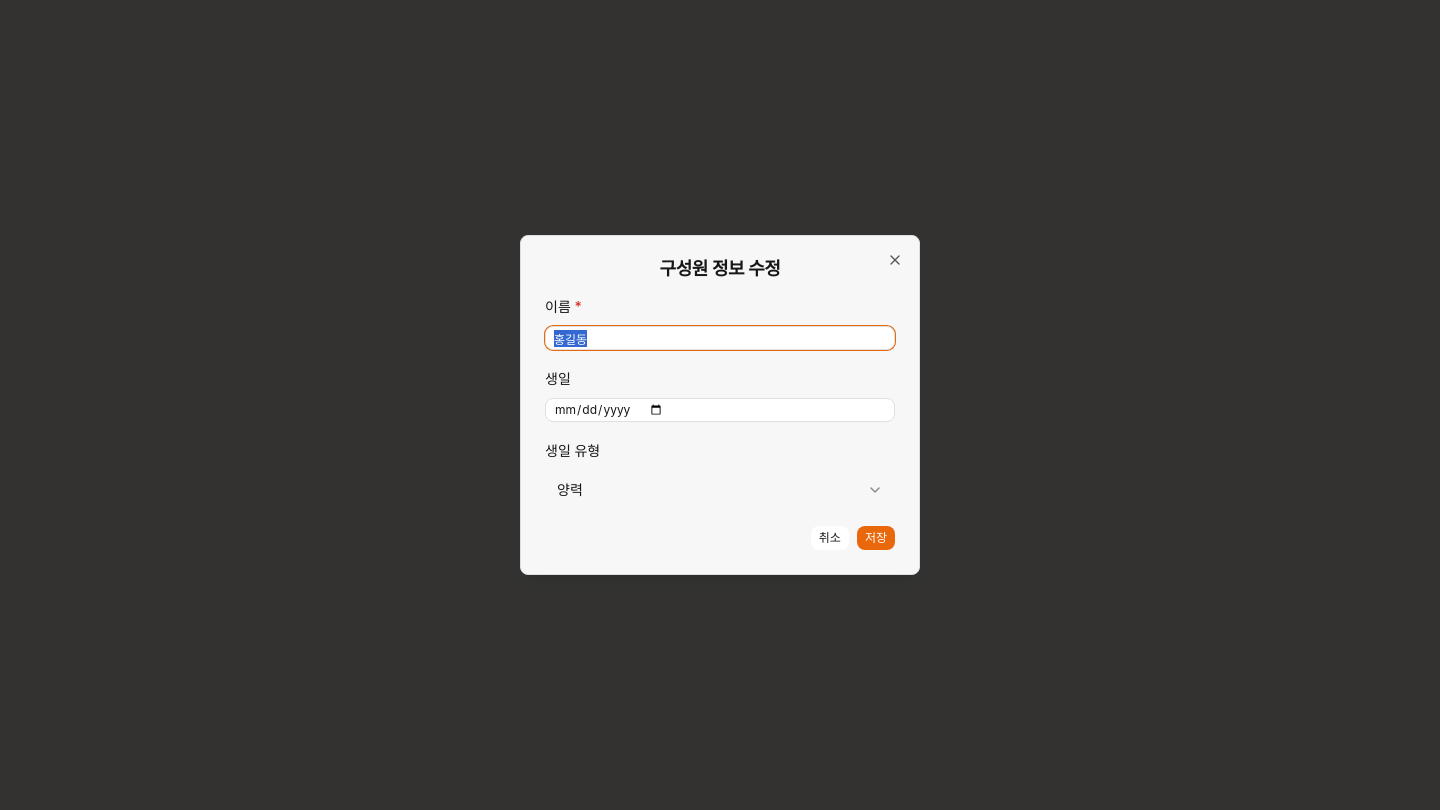
Test case: MemberEditModal › 유효성 검사 › 이름이 비어있으면 저장 버튼이 비활성화된다
This screenshot has width=1440, height=810.
Clear the field labelled "이름 *": (720, 338) x1=545 y1=326 x2=895 y2=350
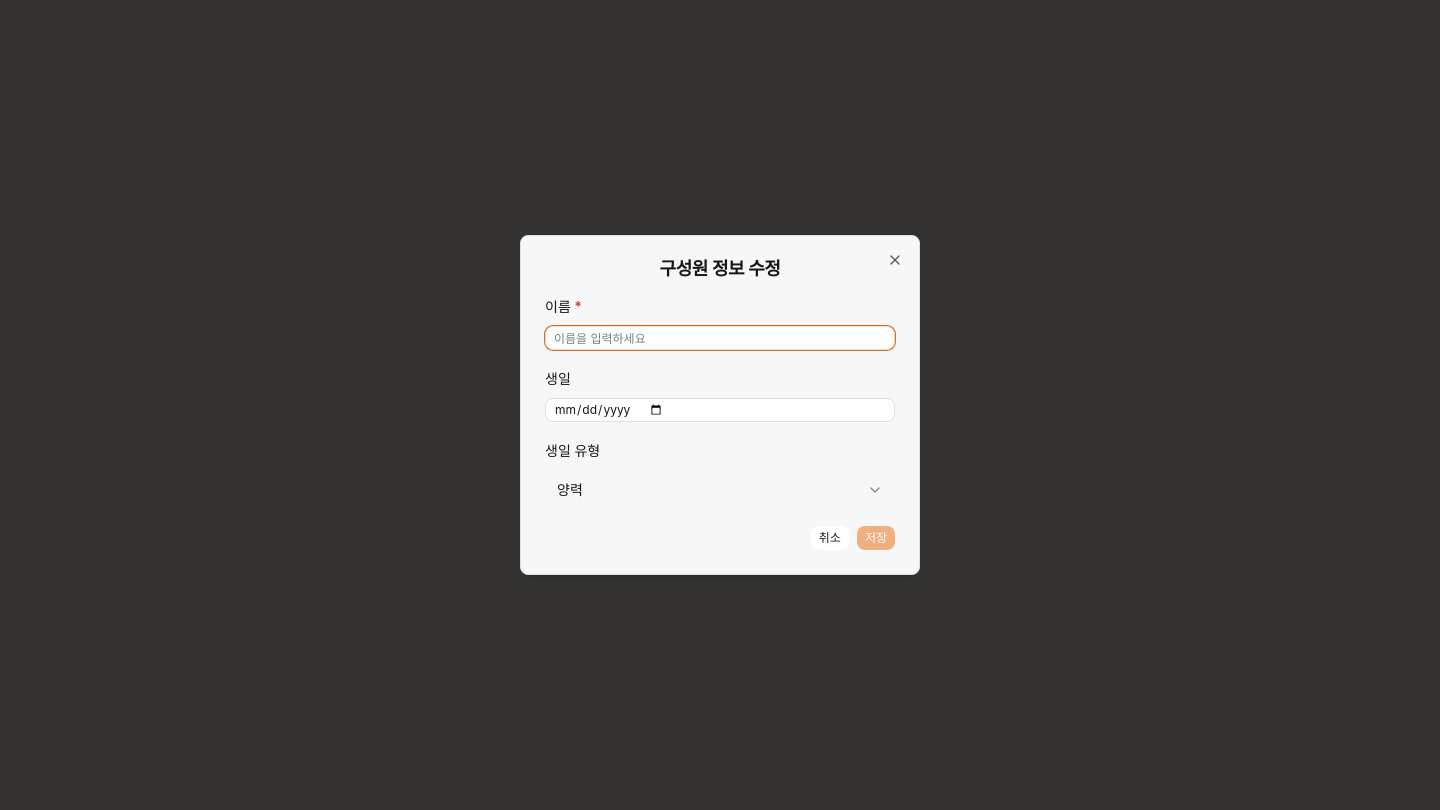
Expected: the button "저장" is disabled, x1=857 y1=526 x2=895 y2=550
